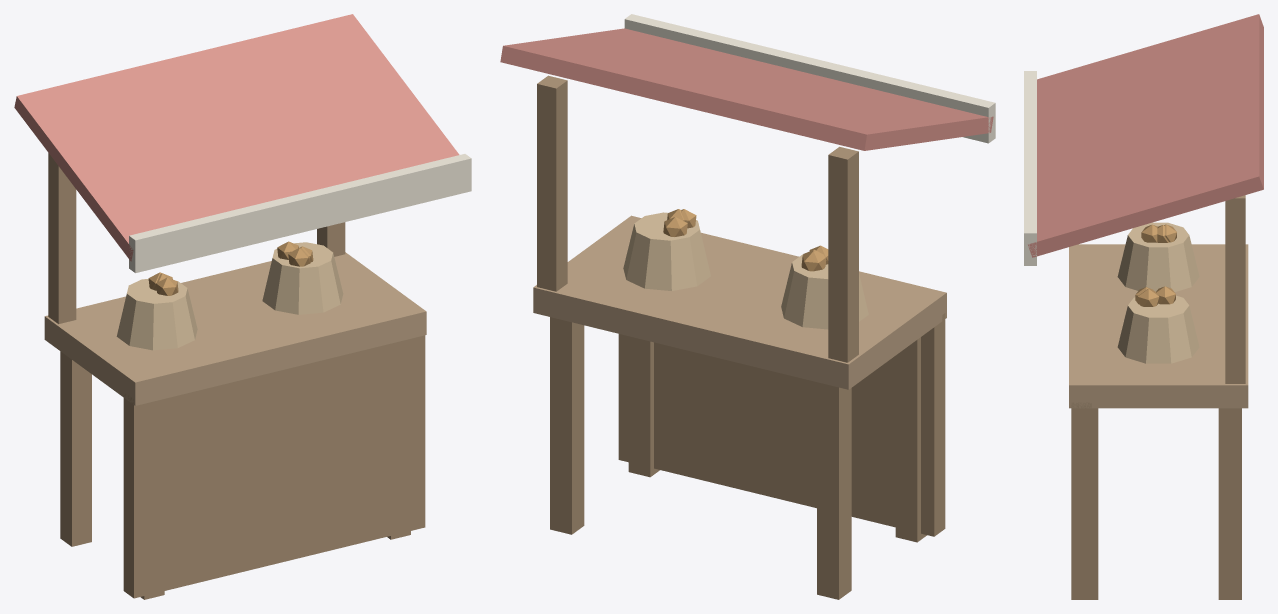
File: market_stall.glb
3 renders of one model, left to right at view 1: azimuth 30°, elevation 25°; view 2: azimuth 150°, elevation 25°; view 3: azimuth 270°, elevation 25°, orthographic. The views are drawn at different scales.
Visible parts, largest first — view 1: market_stall; view 2: market_stall; view 3: market_stall.
Part boxes in pixels (x1,y1,x2,y2): market_stall: (14,14,471,599); market_stall: (500,14,995,599); market_stall: (1024,14,1263,599).
Size of the model in its own units: 1.5 by 1.9 by 0.936.
